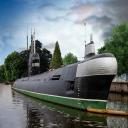submarine: (12, 23, 120, 115)
